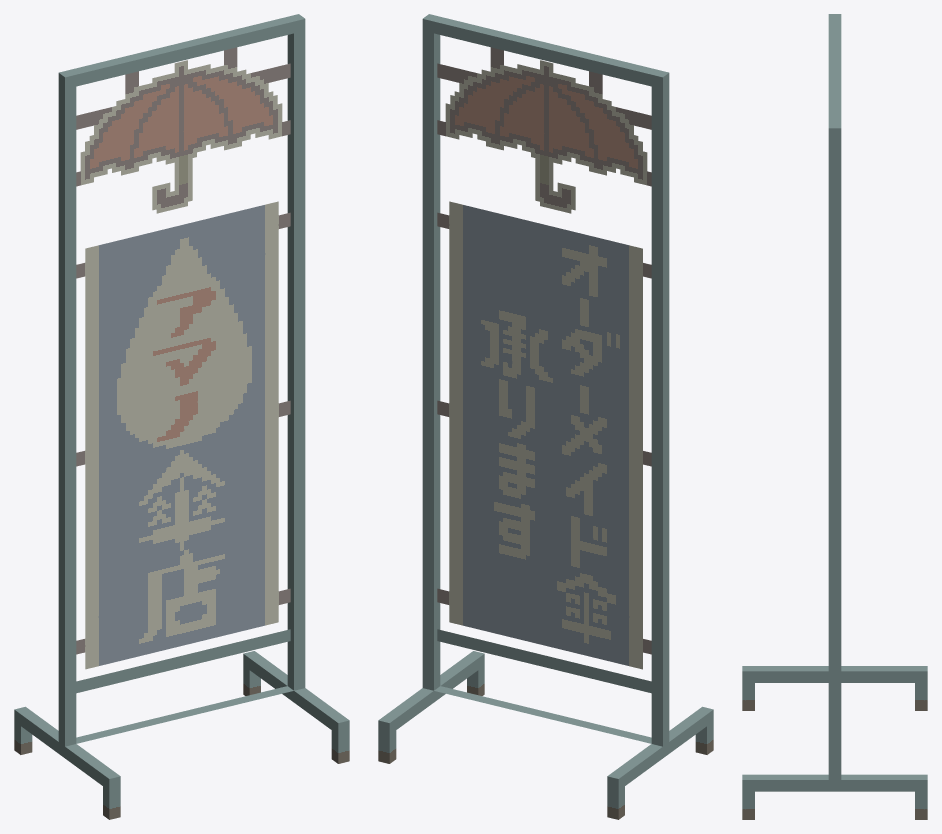
The model's file is 03cc_Umbrella_Shop_Sign.glb.
3 views of the same model, side by side, from view 1: azimuth 30°, elevation 25°; view 2: azimuth 150°, elevation 25°; view 3: azimuth 270°, elevation 25° (orthographic). The views are drawn at different scales.
Visible parts, largest first — view 1: part_0; view 2: part_0; view 3: part_0.
Boxes of the visible parts, <box> form: part_0: <box>14,14,349,819</box>; part_0: <box>378,14,713,819</box>; part_0: <box>742,14,927,819</box>.
Size of the model in its own units: 0.3888 by 1.1 by 0.2665.
Materials: 1 (1 with a texture image).
